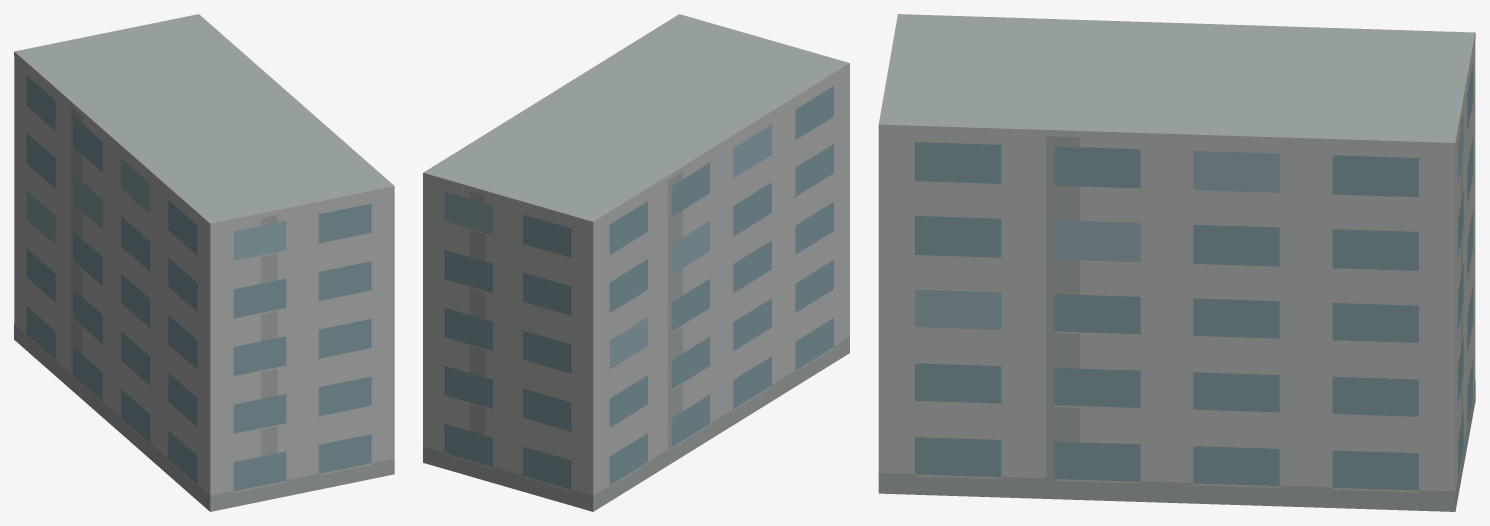
Rendered from survey-upis-32766447.glb.
3 views of the same model, side by side, from view 1: azimuth 30°, elevation 25°; view 2: azimuth 150°, elevation 25°; view 3: azimuth 270°, elevation 25° (orthographic). The views are drawn at different scales.
Visible parts, largest first — view 1: survey-upis-32766447.tmp; view 2: survey-upis-32766447.tmp; view 3: survey-upis-32766447.tmp.
Boxes of the visible parts, left/top/right/bottom form: survey-upis-32766447.tmp: left=14, top=14, right=394, bottom=511; survey-upis-32766447.tmp: left=423, top=14, right=849, bottom=511; survey-upis-32766447.tmp: left=878, top=14, right=1475, bottom=511.
Size of the model in its own units: 10.76 by 14.35 by 21.05.
